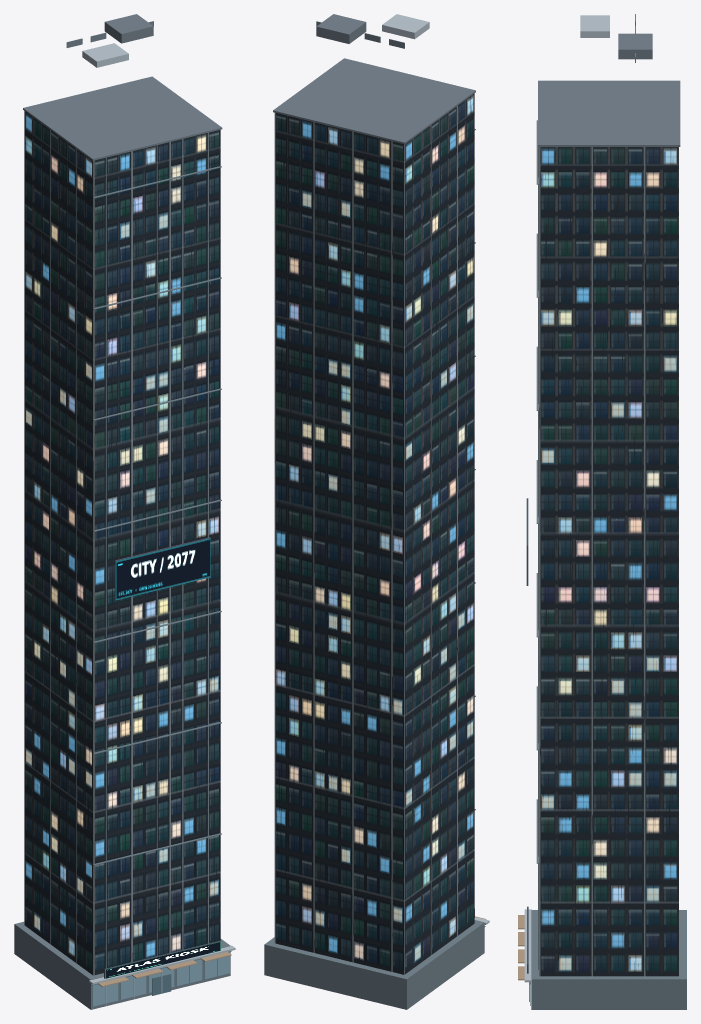
The model's file is landmark_02.glb.
The picture shows the model from 3 angles, left to right: view 1: azimuth 30°, elevation 25°; view 2: azimuth 150°, elevation 25°; view 3: azimuth 270°, elevation 25°; orthographic projection.
Parts seen in each view (by area): view 1: facade_0, facade_sideb_3, frame, roof, alum, ad_9, glass, sign_8, wood, dark; view 2: facade_back_1, facade_sideb_3, roof, frame, alum, concrete; view 3: facade_side_2, roof, frame, alum, wood.
Boxes of the visible parts, x1,y1,x2,y2 form: facade_0: (93,130,220,975); facade_sideb_3: (24,111,93,975); frame: (14,21,231,1009); roof: (23,14,222,160); alum: (82,43,235,1005); ad_9: (115,538,210,599); glass: (92,952,229,1006); sign_8: (105,941,220,978); wood: (98,952,231,986); dark: (104,537,220,978); facade_back_1: (274,113,404,974); facade_sideb_3: (404,93,474,974); roof: (273,14,475,144); frame: (264,21,485,1009); alum: (382,14,489,924); concrete: (404,144,404,974); facade_side_2: (539,147,678,976); roof: (538,33,680,146); frame: (529,14,686,1009); alum: (524,15,609,1001); wood: (518,915,524,980).
Bounding box in the file's own units: 37.8 × 234 × 37.98.
20 materials, 10 textured.
